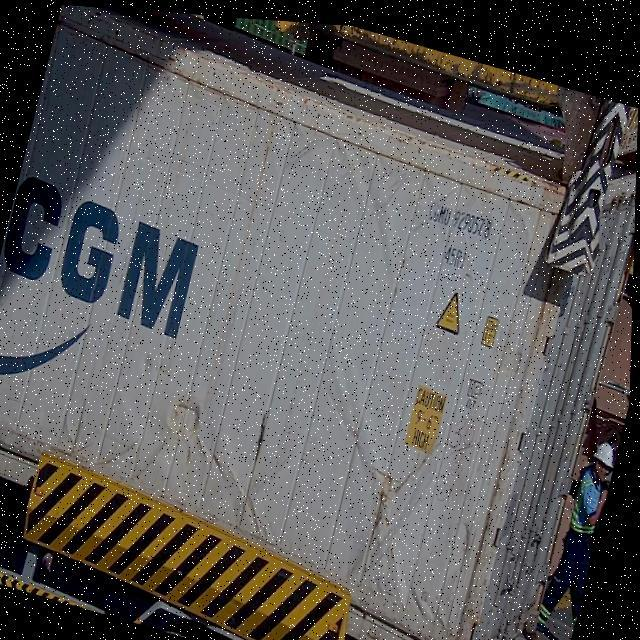rust: (342, 423, 436, 540)
